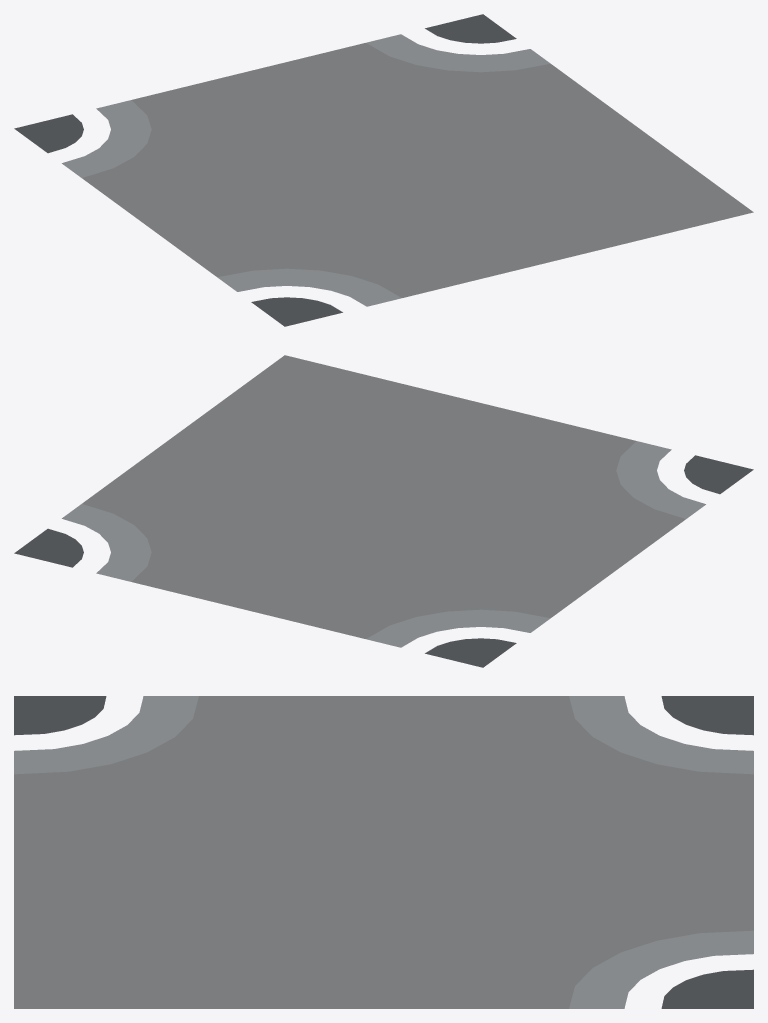
Rendered from Ceiling_type_B_039.glb.
3 views of the same model, one above another, from view 1: azimuth 30°, elevation 25°; view 2: azimuth 150°, elevation 25°; view 3: azimuth 270°, elevation 25° (orthographic). The views are drawn at different scales.
Parts seen in each view (by area): view 1: Ceiling_type_B_039; view 2: Ceiling_type_B_039; view 3: Ceiling_type_B_039.
Boxes of the visible parts, left/top/right/bottom form: Ceiling_type_B_039: left=14, top=14, right=753, bottom=326; Ceiling_type_B_039: left=14, top=355, right=753, bottom=667; Ceiling_type_B_039: left=14, top=696, right=753, bottom=1008.
Size of the model in its own units: 4 by 0.012 by 4.
Materials: 2 (2 with a texture image).
